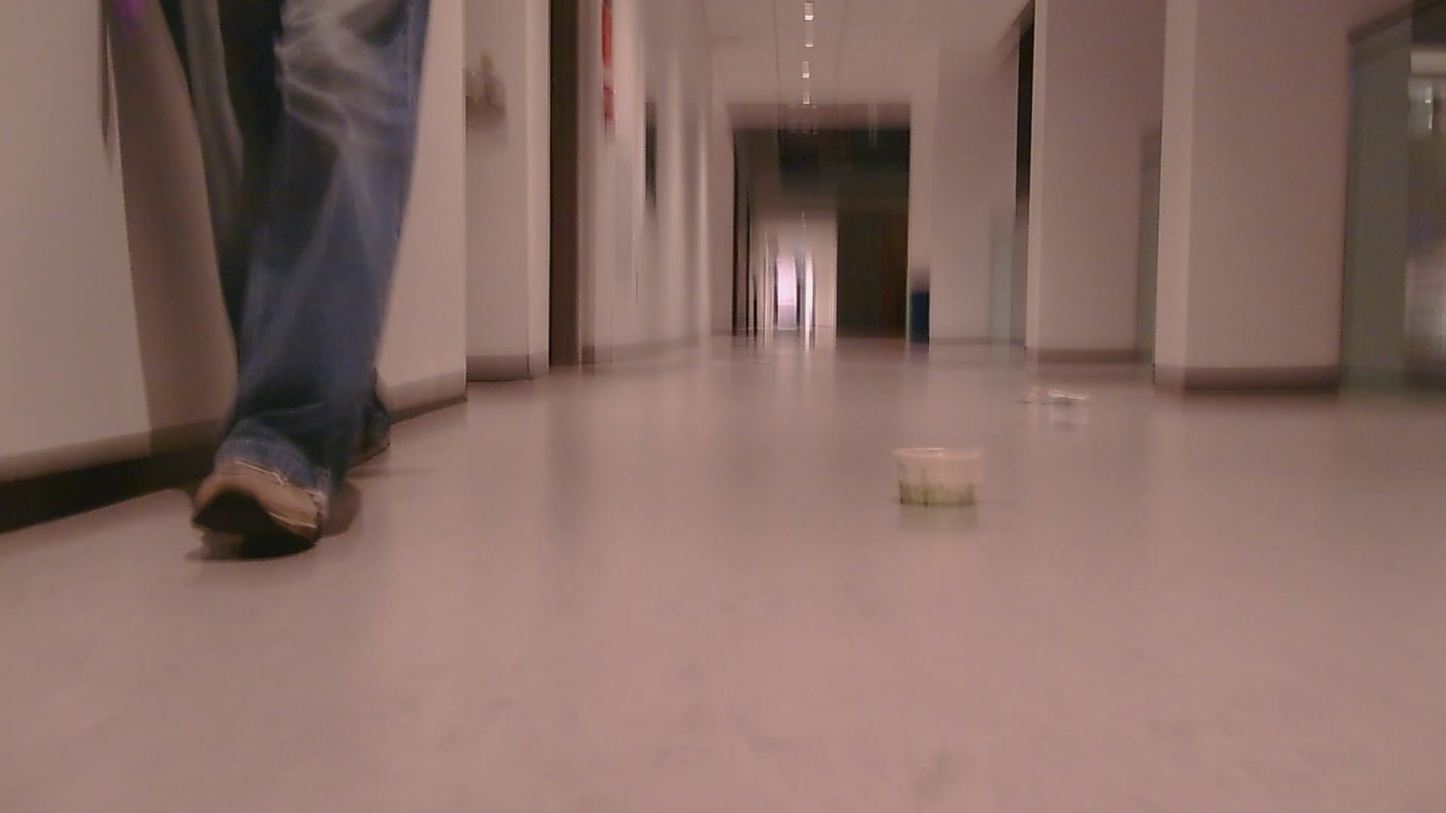carton: (889, 446, 997, 513), (1015, 376, 1100, 414)
